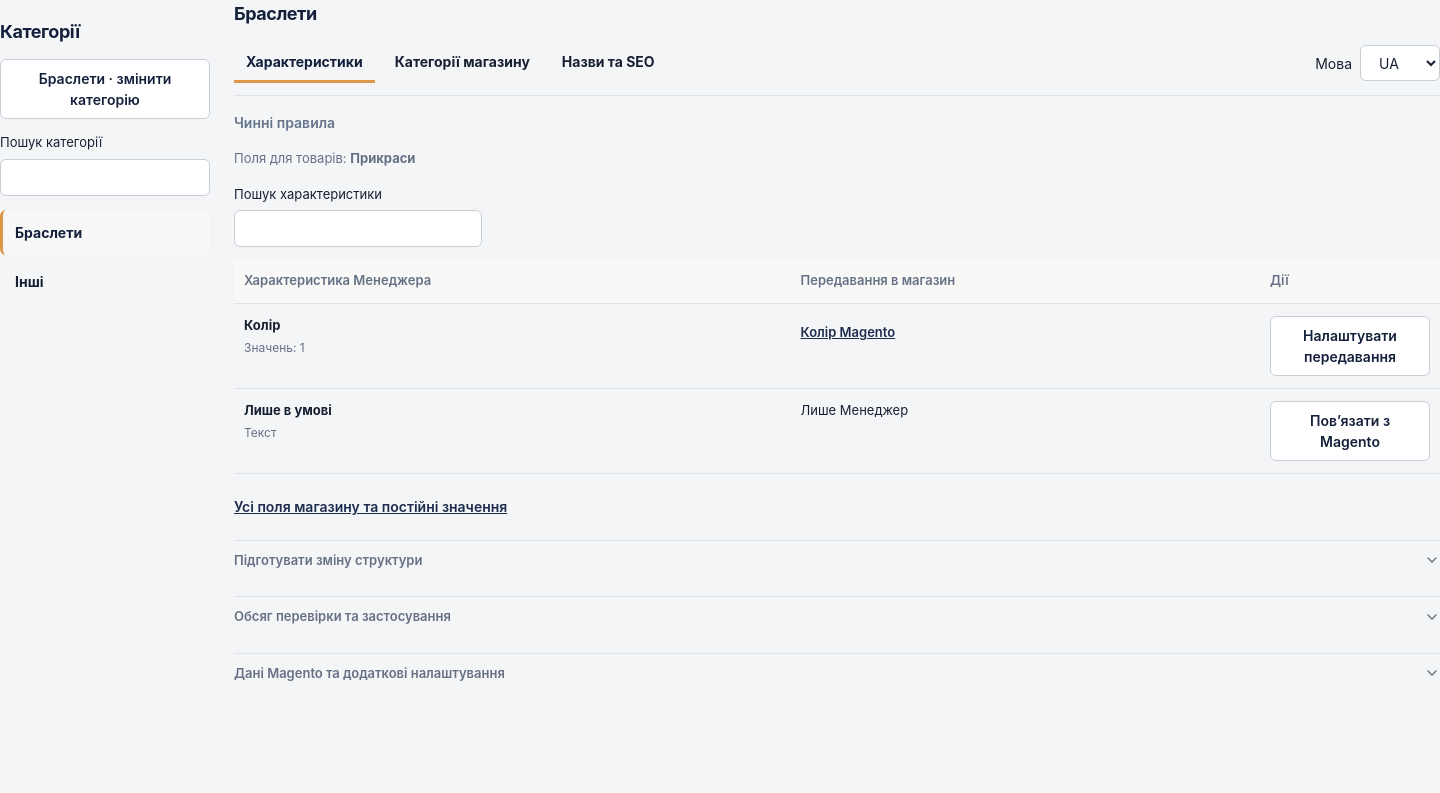
Test: opens the category and complete attribute set without product evaluation or remote writes; exposes unreadable types
Click the button "Усі поля магазину та постійні значення".
click(371, 506)  # box [234,490,507,524]
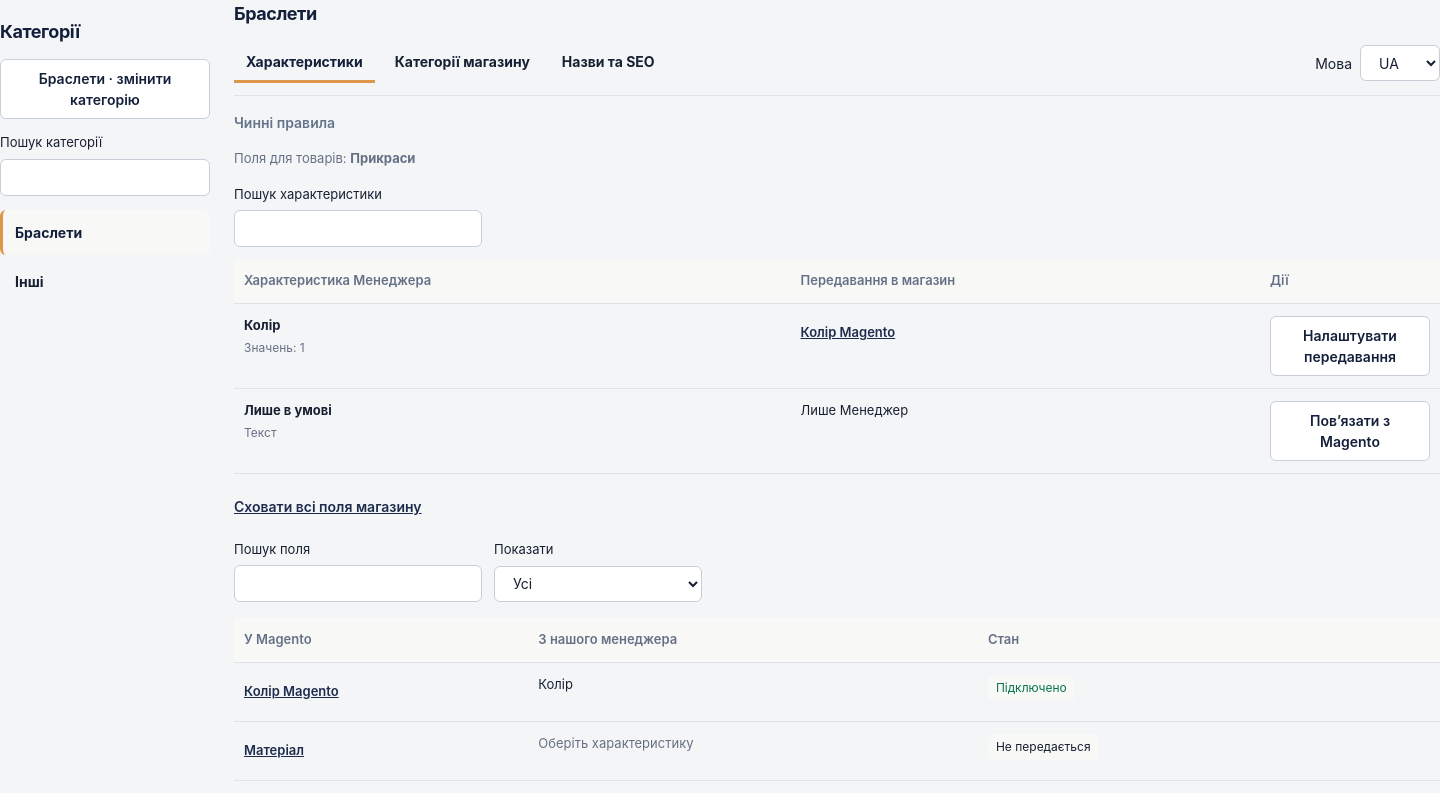
Expected: the column heading "Лише в умові" is shown, [244,402,332,418]
Now the button "Матеріал" is shown, box [244,734,304,768]
Select "Без прив’язки" in the dropdown labelled "Показати" at [598, 584], box [494,566,702,602]
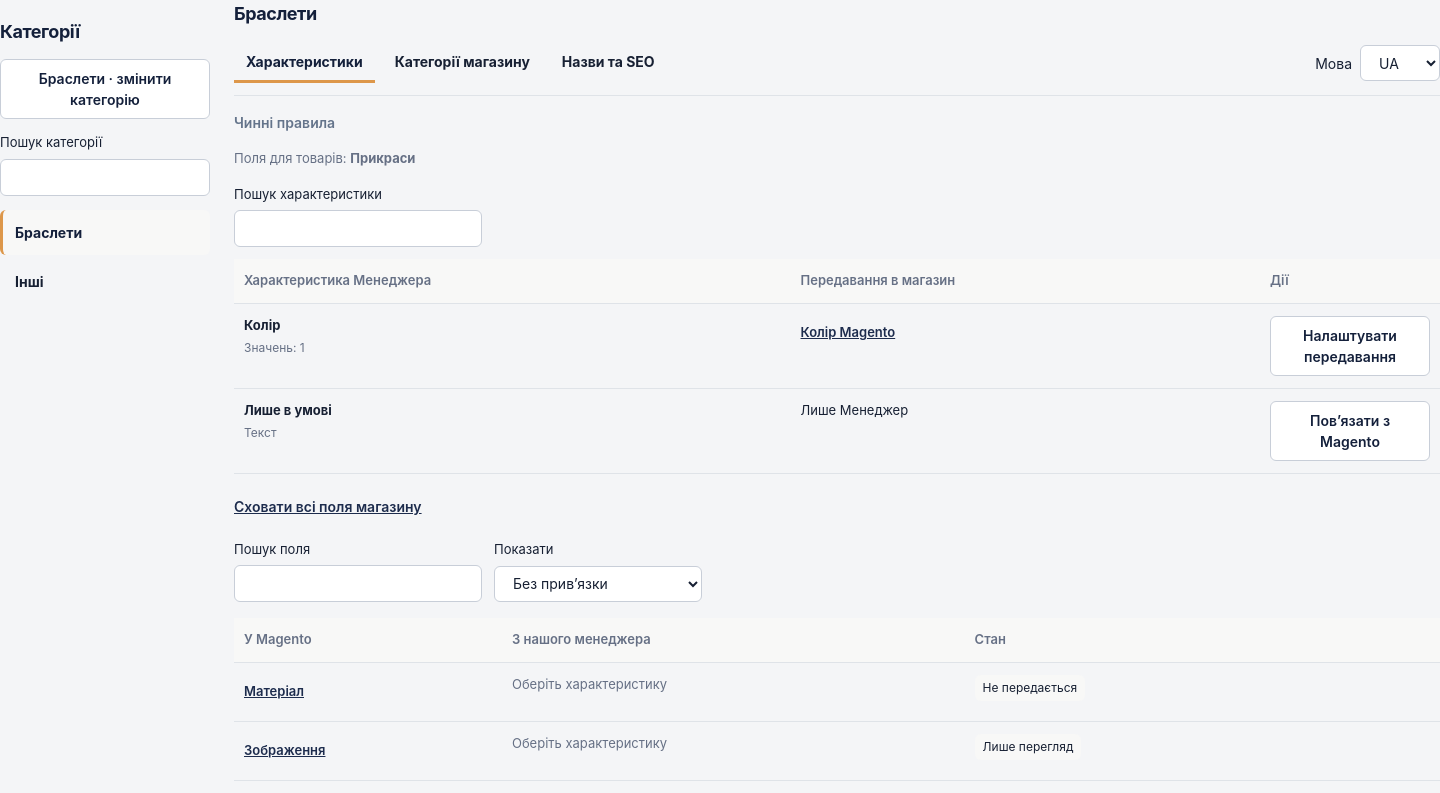
Click the button "Зображення".
click(285, 750)  # box [244,734,326,768]
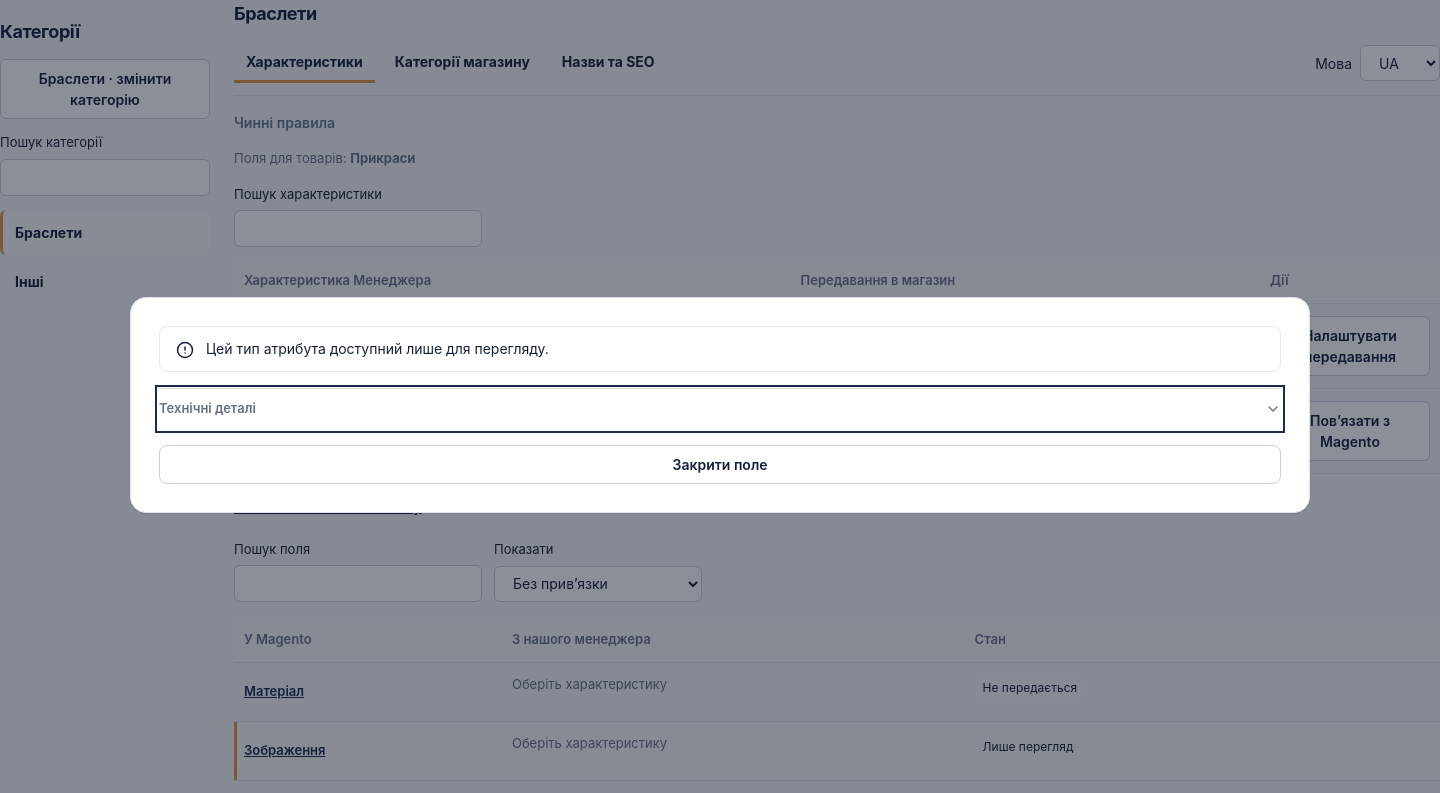
Now the text "Цей тип атрибута доступний лише для перегляду." is shown, box [206,340,549,357]
